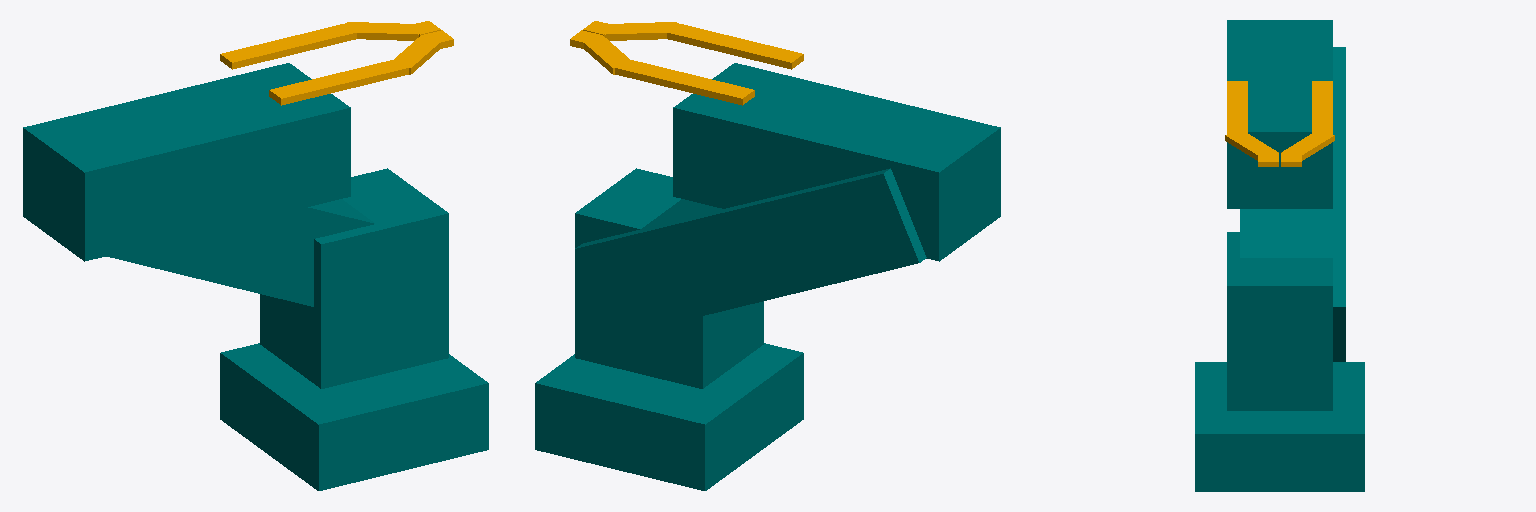
robot.urdf — cobra:
<?xml version="1.0"?>
<robot name="cobra">

  <!-- Mateirals -->
  <material name="blue">
    <color rgba="0 0.5 0.5 1"/>
  </material>

  <material name="yellow">
    <color rgba="1 0.7 0 1"/>
  </material>

  <!-- Base -->
  <link name="bottom">
    <visual>
      <origin xyz="0 0 0" rpy="0 0 0"/>
      <geometry>
        <box size="0.8 0.8 0.3"/>
      </geometry>
      <material name="blue">
      </material>
    </visual>
    <collision>
      <origin xyz="0 0 0" rpy="0 0 0"/>
      <geometry>
        <box size="0.8 0.8 0.3"/>
      </geometry>
    </collision>
    <inertial>
      <mass value="5.0"/>
      <origin xyz="0 0 0" rpy="0 0 0"/>
      <inertia ixx="0.1" iyy="0.1" izz="0.1" ixy="0" ixz="0" iyz="0"/>
    </inertial>
  </link>

  <!-- Pedestal -->
  <link name="pedestal">
    <visual>
      <origin xyz="0 0 0.3" rpy="0 0 0"/>
      <geometry>
        <box size="0.6 0.5 0.65"/>
      </geometry>
      <material name="blue">
      </material>
    </visual>
    <collision>
      <origin xyz="0 0 0.3" rpy="0 0 0"/>
      <geometry>
        <box size="0.6 0.5 0.65"/>
      </geometry>
    </collision>
    <inertial>
      <mass value="3.0"/>
      <origin xyz="0 0 0.325" rpy="0 0 0"/>
      <inertia ixx="0.05" iyy="0.05" izz="0.05" ixy="0" ixz="0" iyz="0"/>
    </inertial>
  </link>

  <joint name="bottom_to_pedestal" type="revolute">
    <axis xyz="0 0 1"/>
    <limit effort="1000.0" lower="0.0" upper="3.14" velocity="1.0"/>
    <parent link="bottom"/>
    <child link="pedestal"/>
    <origin xyz="0 0 0.25" rpy="0 0 0"/>
  </joint>

  <!-- Arm -->
  <link name="arm">
    <visual>
      <origin xyz="0 0.06 0.6" rpy="0 0 0"/>
      <geometry>
        <box size="0.4 0.5 1.6"/>
      </geometry>
      <material name="blue">
      </material>
    </visual>
    <collision>
      <origin xyz="0 0.06 0.6" rpy="0 0 0"/>
      <geometry>
        <box size="0.4 0.5 1.6"/>
      </geometry>
    </collision>
    <inertial>
      <mass value="4.0"/>
      <origin xyz="0 0.06 0.6" rpy="0 0 0"/>
      <inertia ixx="0.08" iyy="0.08" izz="0.08" ixy="0" ixz="0" iyz="0"/>
    </inertial>
  </link>

  <joint name="pedestal_to_arm" type="revolute">
  
    <axis xyz="0 1 0"/>
    <limit effort="1000.0" lower="0.0" upper="2.18166157" velocity="1.0"/>  
    <parent link="pedestal"/>
    <child link="arm"/>
    <origin rpy="0 -1.13446401 0" xyz="0 0 0.4"/>
  </joint>

  <!-- Forearm -->
  <link name="forearm">
    <visual>
      <origin xyz="-0.1 0 0.3" rpy="0 0 0"/>
      <geometry>
        <box size="0.4 0.5 1.25"/>
      </geometry>
      <material name="blue">
      </material>
    </visual>
    <collision>
      <origin xyz="-0.1 0 0.3" rpy="0 0 0"/>
      <geometry>
        <box size="0.4 0.5 1.25"/>
      </geometry>
    </collision>
    <inertial>
      <mass value="3.0"/>
      <origin xyz="-0.1 0 0.3" rpy="0 0 0"/>
      <inertia ixx="0.05" iyy="0.05" izz="0.05" ixy="0" ixz="0" iyz="0"/>
    </inertial>
  </link>

  <joint name="arm_to_forearm" type="revolute">
    <axis xyz="0 -1 0"/>
    <limit effort="1000.0" lower="0.0" upper="2.70526034" velocity="1.0"/>
    <parent link="arm"/>
    <child link="forearm"/>
    <origin rpy="0 2.70526034 0" xyz="0 0 1.2"/>
  </joint>

  <!-- Platform -->
  <link name="platform">
    <visual>
      <origin xyz="0 0 0" rpy="0 0 0"/>
      <geometry>
        <box size="0.03 0.5 0.5"/>
      </geometry>
      <material name="blue">
      </material>
    </visual>
    <collision>
      <origin xyz="0 0 0" rpy="0 0 0"/>
      <geometry>
        <box size="0.03 0.5 0.5"/>
      </geometry>
    </collision>
    <inertial>
      <mass value="0.5"/>
      <origin xyz="0 0 0.25" rpy="0 0 0"/>
      <inertia ixx="0.01" iyy="0.01" izz="0.01" ixy="0" ixz="0" iyz="0"/>
    </inertial>
  </link>

  <joint name="forearm_to_platform" type="fixed">
    <parent link="forearm"/>
    <child link="platform"/>
    <origin xyz="-0.2 0 0.6" rpy="0 0 0"/>
  </joint>

  <!-- Left Gripper -->
  <link name="left_gripper">
    <visual>
      <origin xyz="-0.1 -0.05 0.15" rpy="0 0 0"/>
      <geometry>
        <box size="0.03 0.1 0.6"/> 
      </geometry>
      <material name="yellow">
      </material>
    </visual>
    <collision>
      <geometry>
        <box size="0.03 0.1 0.3"/>
      </geometry>
    </collision>
    <inertial>
      <mass value="0.1"/>
      <origin xyz="0 0 0" rpy="0 0 0"/>
      <inertia ixx="0.001" iyy="0.001" izz="0.001" ixy="0" ixz="0" iyz="0"/>
    </inertial>
  </link>

  <joint name="left_gripper_joint" type="revolute">
    <axis xyz="1 0 0"/>
    <limit effort="1000" lower="0.0" upper="0.523599" velocity="1.0"/>
    <parent link="platform"/>
    <child link="left_gripper"/>
    <origin xyz="-0.1 -0.15 0.15" rpy="0 0 0"/>
  </joint>

    <!-- Left Tip of Gripper -->
  <link name="left_tip_gripper">
    <visual>
      <origin xyz="0 0 0.12" rpy="0 0 0"/>
      <geometry>
        <box size="0.03 0.1 0.3"/> 
      </geometry>
      <material name="yellow">
      </material>
    </visual>
    <collision>
      <geometry>
        <box size="0.03 0.1 0.3"/>
      </geometry>
    </collision>
    <inertial>
      <mass value="0.1"/>
      <origin xyz="0 0 0" rpy="0 0 0"/>
      <inertia ixx="0.001" iyy="0.001" izz="0.001" ixy="0" ixz="0" iyz="0"/>
    </inertial>
  </link>

  <joint name="left_tip_gripper_joint" type="fixed">
    <axis xyz="1 0 0"/>
    <parent link="left_gripper"/>
    <child link="left_tip_gripper"/>
    <origin xyz="-0.1 -0.05 0.45" rpy="-0.6 0 0"/>
  </joint>

      <!-- Left point of Tip -->
  <link name="left_point_tip_gripper">
    <visual>
      <origin xyz="0 0.005 0.04" rpy="0 0 0"/>
      <geometry>
        <box size="0.03 0.1 0.1"/> 
      </geometry>
      <material name="yellow">
      </material>
    </visual>
    <collision>
      <geometry>
        <box size="0.03 0.1 0.1"/>
      </geometry>
    </collision>
    <inertial>
      <mass value="0.1"/>
      <origin xyz="0 0 0" rpy="0 0 0"/>
      <inertia ixx="0.001" iyy="0.001" izz="0.001" ixy="0" ixz="0" iyz="0"/>
    </inertial>
  </link>

  <joint name="left_point_tip_gripper_joint" type="fixed">
    <axis xyz="1 0 0"/>
    <parent link="left_tip_gripper"/>
    <child link="left_point_tip_gripper"/>
    <origin xyz="0 0 0.25" rpy="0.6 0 0"/>
  </joint>

  <!-- Right Gripper -->
  <link name="right_gripper">
    <visual>
      <origin xyz="-0.1 0.05 0.15" rpy="0 0 0"/>
      <geometry>
        <box size="0.03 0.1 0.6"/>
      </geometry>
      <material name="yellow">
      </material>
    </visual>
    <collision>
      <geometry>
        <box size="0.03 0.1 0.3"/>
      </geometry>
    </collision>
    <inertial>
      <mass value="0.1"/>
      <origin xyz="0 0 0" rpy="0 0 0"/>
      <inertia ixx="0.001" iyy="0.001" izz="0.001" ixy="0" ixz="0" iyz="0"/>
    </inertial>
  </link>
  
  <joint name="right_gripper_joint" type="revolute">
    <axis xyz="-1 0 0"/>
    <limit effort="1000" lower="0.0" upper="0.523599" velocity="1.0"/>
    <parent link="platform"/>
    <child link="right_gripper"/>
    <origin xyz="-0.1 0.15 0.15" rpy="0 0 0"/>
  </joint>

    <!-- Right Tip of Gripper -->
  <link name="right_tip_gripper">
    <visual>
      <origin xyz="0 0 0.12" rpy="0 0 0"/>
      <geometry>
        <box size="0.03 0.1 0.3"/> 
      </geometry>
      <material name="yellow">
      </material>
    </visual>
    <collision>
      <geometry>
        <box size="0.03 0.1 0.3"/>
      </geometry>
    </collision>
    <inertial>
      <mass value="0.1"/>
      <origin xyz="0 0 0" rpy="0 0 0"/>
      <inertia ixx="0.001" iyy="0.001" izz="0.001" ixy="0" ixz="0" iyz="0"/>
    </inertial>
  </link>

  <joint name="right_tip_gripper_joint" type="fixed">
    <axis xyz="1 0 0"/>
    <parent link="right_gripper"/>
    <child link="right_tip_gripper"/>
    <origin xyz="-0.1 0.05 0.45" rpy="0.6  0 0"/>
  </joint>

      <!-- Right point of Tip -->
  <link name="right_point_tip_gripper">
    <visual>
      <origin xyz="0 -0.005 0.04" rpy="0 0 0"/>
      <geometry>
        <box size="0.03 0.1 0.1"/> 
      </geometry>
      <material name="yellow">
      </material>
    </visual>
    <collision>
      <geometry>
        <box size="0.03 0.1 0.1"/>
      </geometry>
    </collision>
    <inertial>
      <mass value="0.1"/>
      <origin xyz="0 0 0" rpy="0 0 0"/>
      <inertia ixx="0.001" iyy="0.001" izz="0.001" ixy="0" ixz="0" iyz="0"/>
    </inertial>
  </link>

  <joint name="right_point_tip_gripper_joint" type="fixed">
    <axis xyz="1 0 0"/>
    <parent link="right_tip_gripper"/>
    <child link="right_point_tip_gripper"/>
    <origin xyz="0 0 0.25" rpy="-0.6 0 0"/>
  </joint>

  <!-- Gazebo ROS2 Control Plugin -->
  <gazebo>
    <plugin name="gazebo_ros2_control" filename="libgazebo_ros2_control.so"/>
  </gazebo>

</robot>

--- What the picture shows (computed from the rendered views, not written in the file) ---
The picture shows the robot from 3 angles, left to right: view 1: azimuth 30°, elevation 25°; view 2: azimuth 150°, elevation 25°; view 3: azimuth 270°, elevation 25°; orthographic projection.
Robot: cobra — 11 links, 10 joints (5 revolute, 5 fixed); root link bottom; default pose: every joint at zero.
Visible links, largest first — view 1: forearm, pedestal, bottom, arm, right_gripper, left_gripper, right_tip_gripper, left_tip_gripper; view 2: forearm, arm, bottom, pedestal, left_gripper, right_gripper, left_tip_gripper, right_tip_gripper; view 3: bottom, pedestal, forearm, arm, right_gripper, left_gripper, left_tip_gripper, right_tip_gripper.
Link boxes in pixels (x1,y1,x2,y2): forearm: (23, 63, 350, 261); pedestal: (260, 168, 448, 388); bottom: (220, 343, 488, 490); arm: (106, 199, 374, 306); right_gripper: (220, 23, 359, 69); left_gripper: (269, 59, 408, 105); right_tip_gripper: (347, 22, 420, 40); left_tip_gripper: (391, 36, 439, 74); forearm: (673, 63, 1000, 261); arm: (575, 168, 926, 337); bottom: (535, 343, 803, 490); pedestal: (575, 168, 763, 388); left_gripper: (664, 23, 803, 69); right_gripper: (615, 59, 754, 105); left_tip_gripper: (603, 22, 676, 40); right_tip_gripper: (584, 36, 631, 74); bottom: (1195, 362, 1364, 491); pedestal: (1227, 232, 1332, 410); forearm: (1227, 20, 1332, 208); arm: (1240, 47, 1345, 361); right_gripper: (1312, 81, 1332, 134); left_gripper: (1227, 81, 1247, 134); left_tip_gripper: (1225, 130, 1278, 160); right_tip_gripper: (1281, 130, 1334, 160).
Size in the robot's own frame: 1.82 by 0.8 by 1.72 metres.
Geometry: primitives only (box / cylinder / sphere), no mesh files.